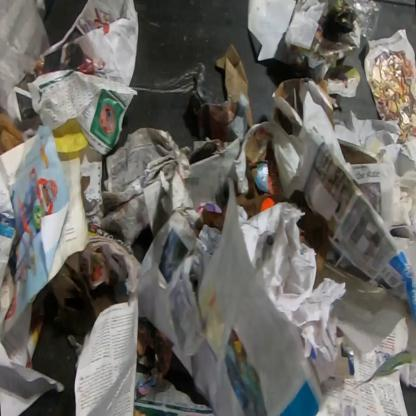cardboard: (49, 250, 117, 326), (215, 43, 254, 129), (0, 108, 28, 158)
soft_plastic: (350, 0, 381, 47)
